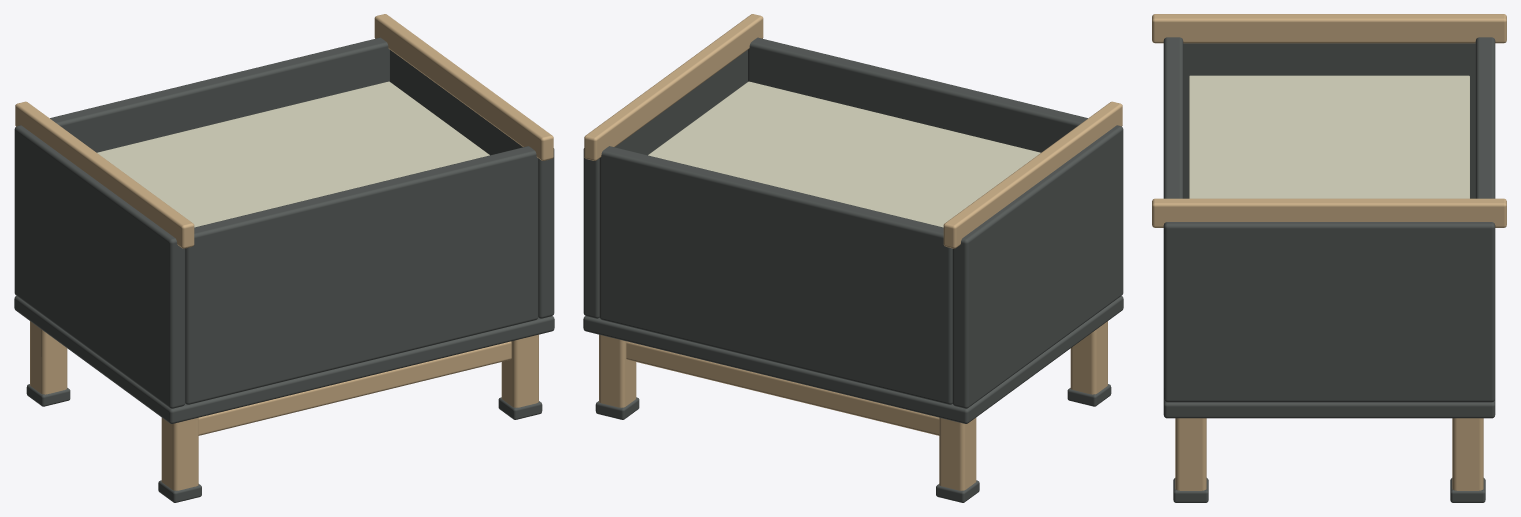
File: bookbinding-and-paper-mill-pulp-vat-ff1b9267__30546.glb
3 renders of one model, left to right at view 1: azimuth 30°, elevation 25°; view 2: azimuth 150°, elevation 25°; view 3: azimuth 270°, elevation 25°, orthographic. The views are drawn at different scales.
Parts seen in each view (by area): view 1: pulp-vat; view 2: pulp-vat; view 3: pulp-vat.
Part boxes in pixels (bbox=[...]): pulp-vat: bbox=[14, 14, 554, 502]; pulp-vat: bbox=[583, 14, 1123, 502]; pulp-vat: bbox=[1152, 14, 1506, 502].
Size of the model in its own units: 1.2 by 0.85 by 0.9101.
